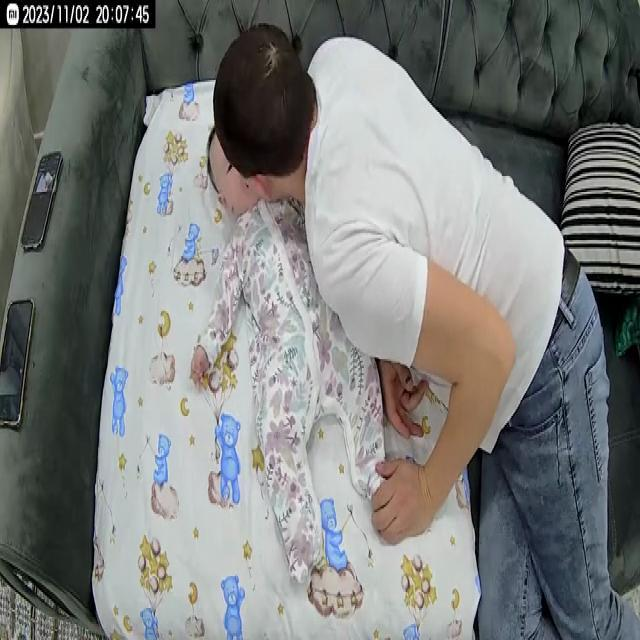baby: (195, 126, 391, 578)
